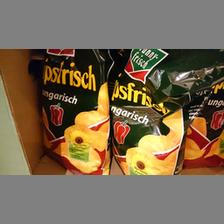Chips: (111, 48, 200, 176), (34, 47, 110, 172)
